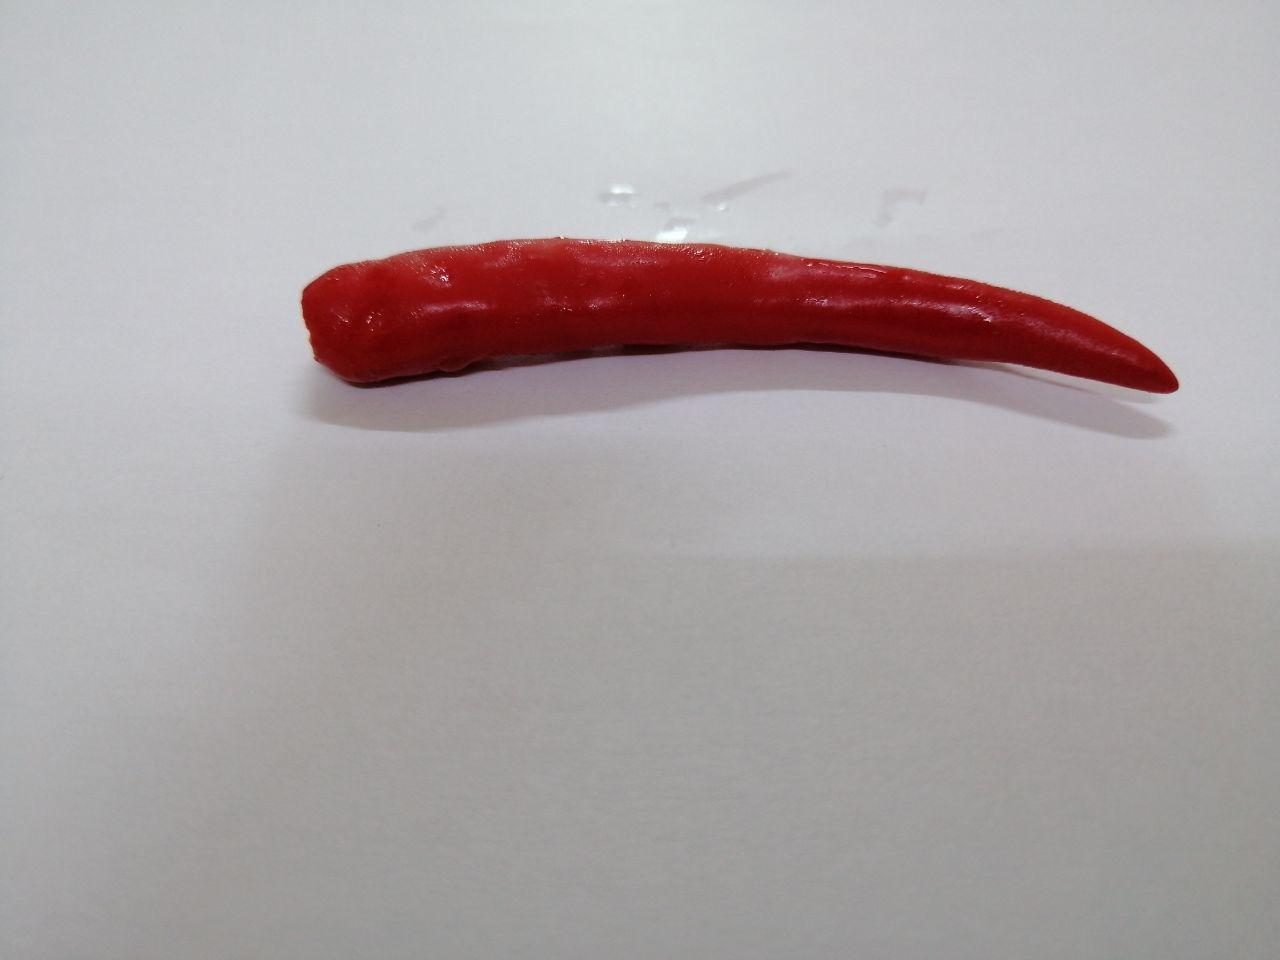lada merah: (266, 208, 1197, 453)
